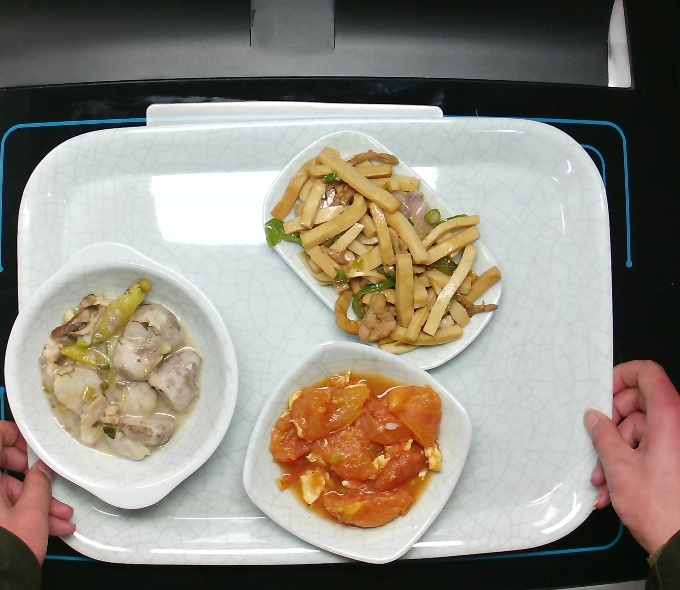wcq-FanQieChaoDan: (271, 358, 448, 530)
wcq-QianYeDouFu: (265, 145, 500, 361)
wcq-YangYu: (35, 270, 207, 462)
